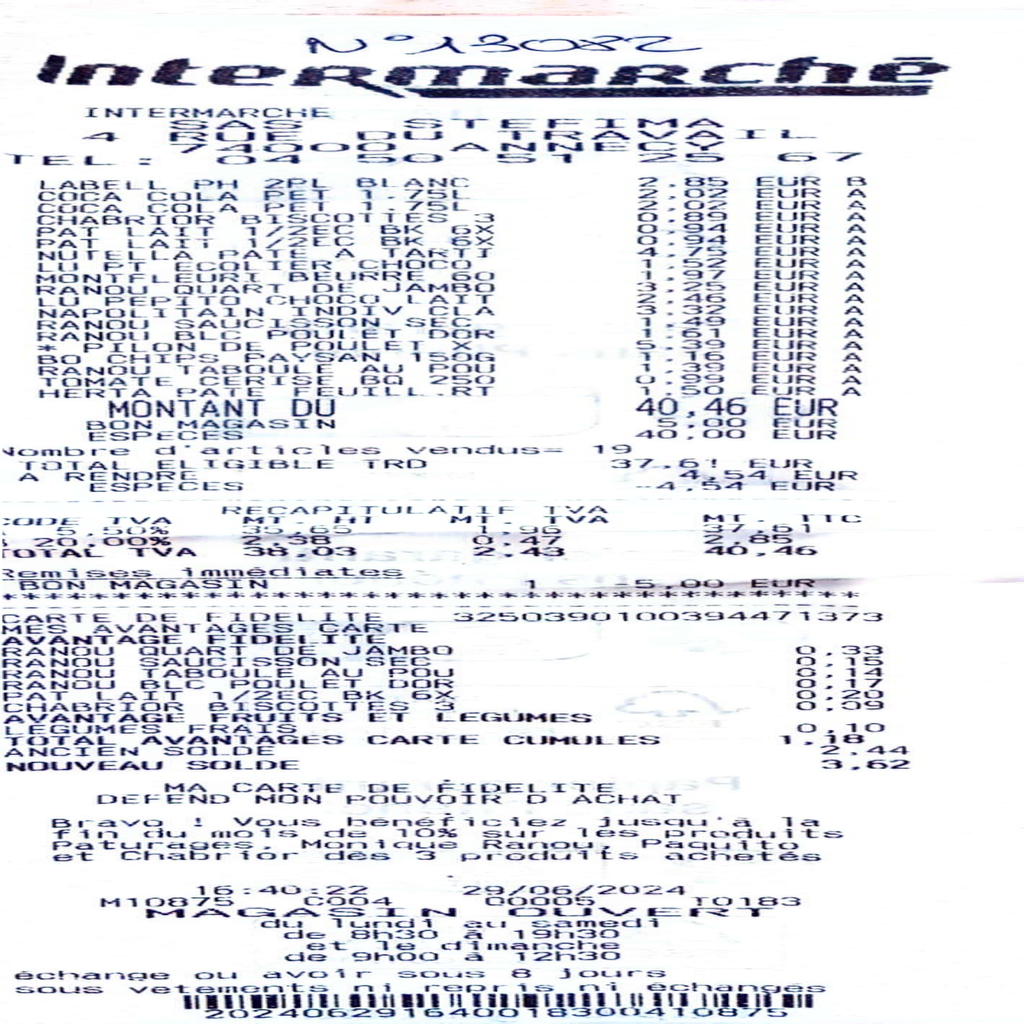recipt: (2, 0, 1020, 1018)
